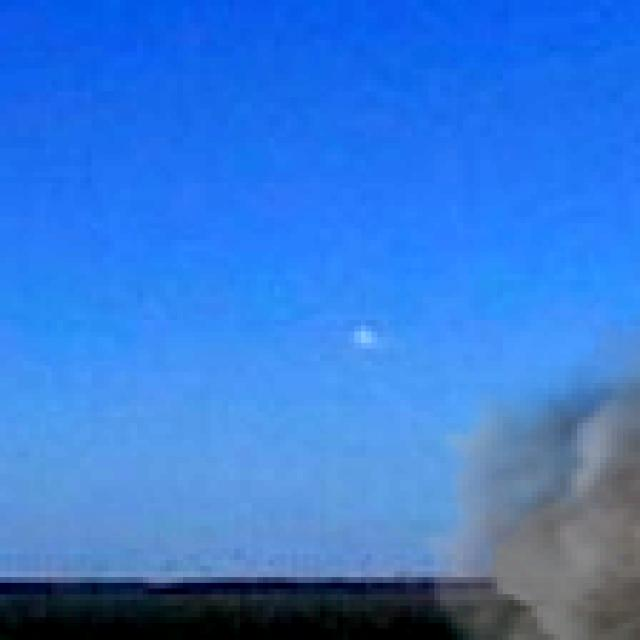smoke: (417, 303, 640, 640)
